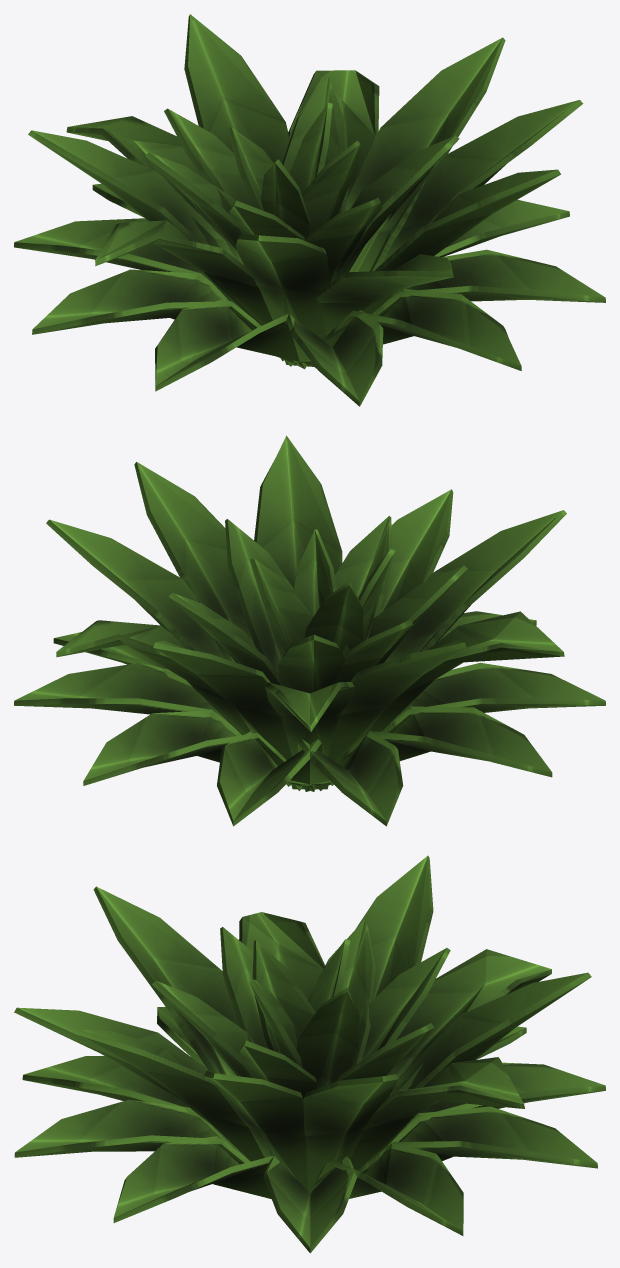
Rendered from Bush_2.fbx.
3 renders of one model, top to bottom at view 1: azimuth 30°, elevation 25°; view 2: azimuth 150°, elevation 25°; view 3: azimuth 270°, elevation 25°, orthographic. The views are drawn at different scales.
Visible parts, largest first — view 1: Bush_2; view 2: Bush_2; view 3: Bush_2.
Boxes of the visible parts, left/top/right/bottom form: Bush_2: left=14, top=14, right=605, bottom=406; Bush_2: left=14, top=435, right=605, bottom=826; Bush_2: left=14, top=855, right=605, bottom=1253.
Bounding box in the file's own units: 40.97 × 17.86 × 39.69.
